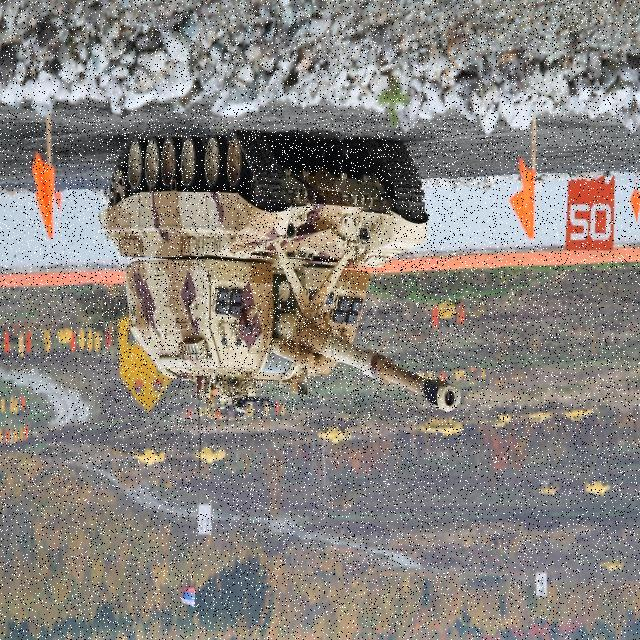MIL_MBT: (104, 126, 458, 433)
